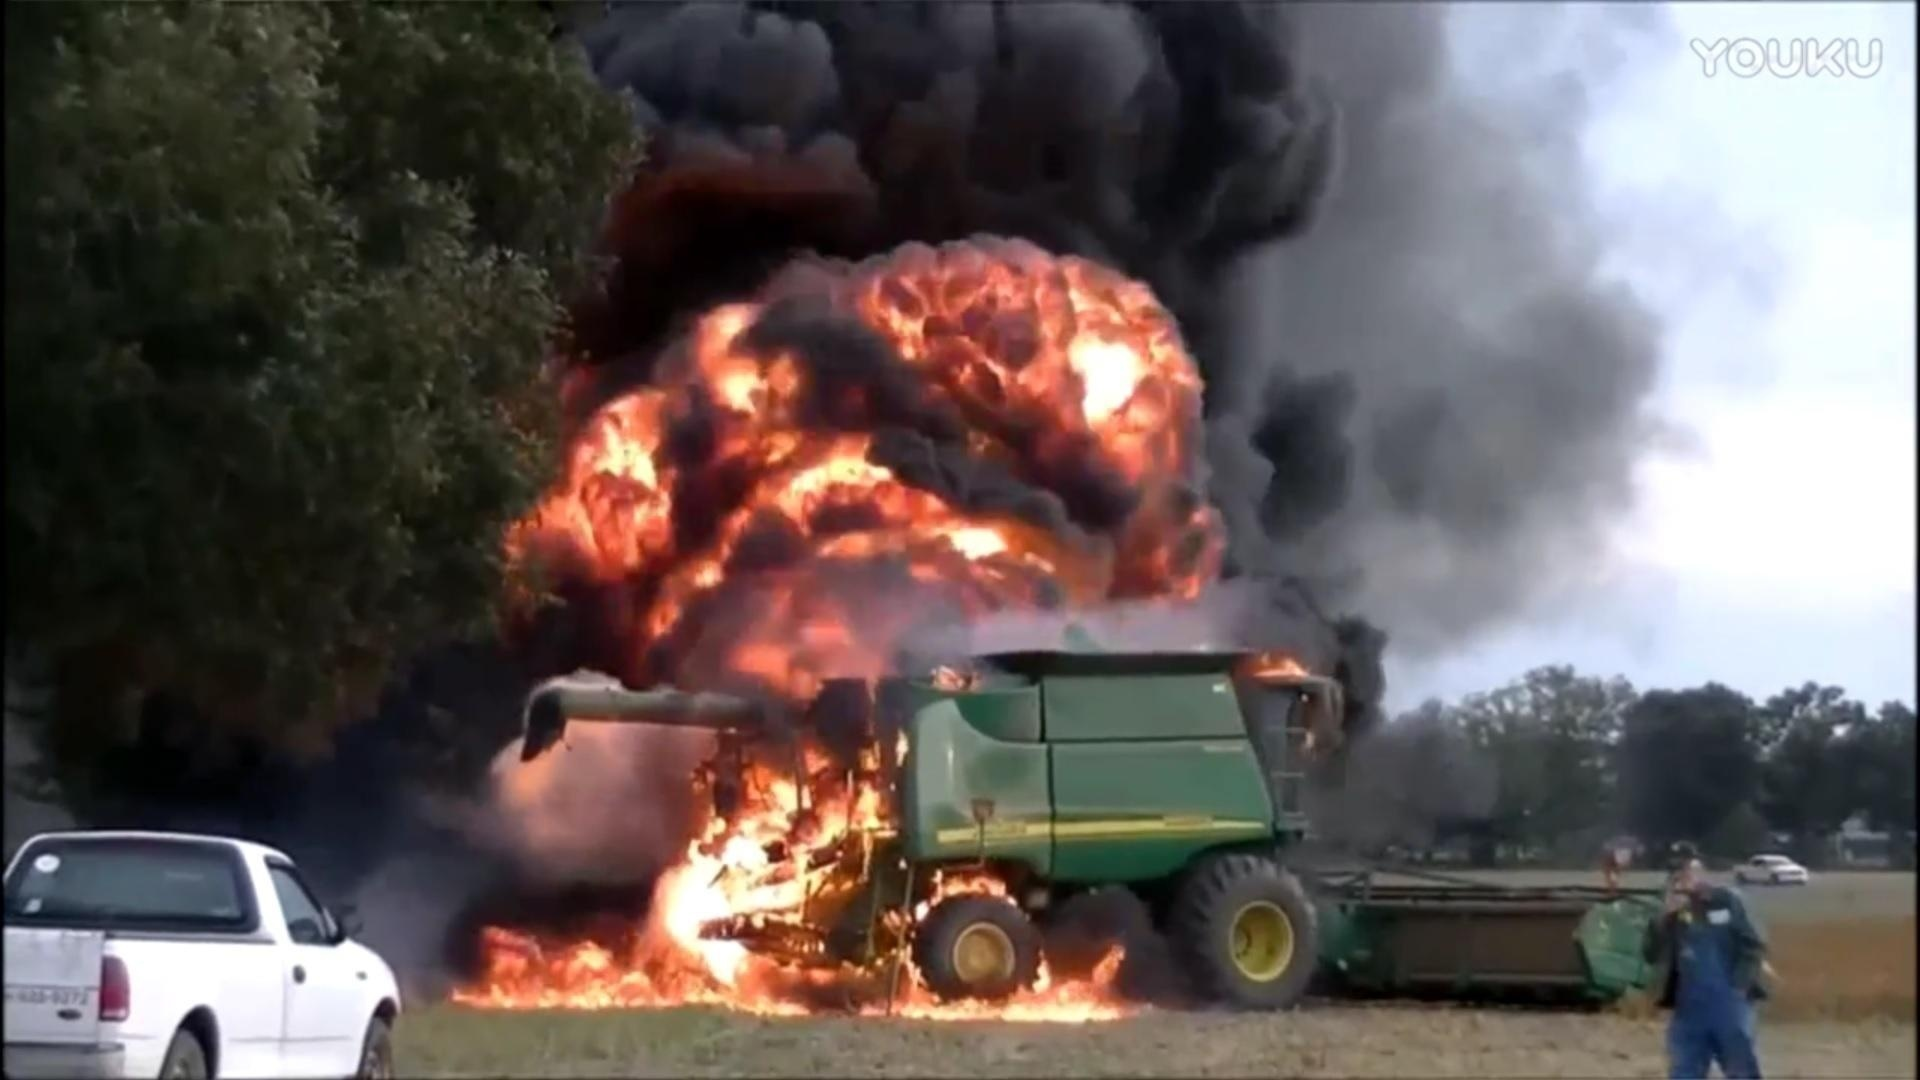fire: (483, 276, 1232, 1042)
